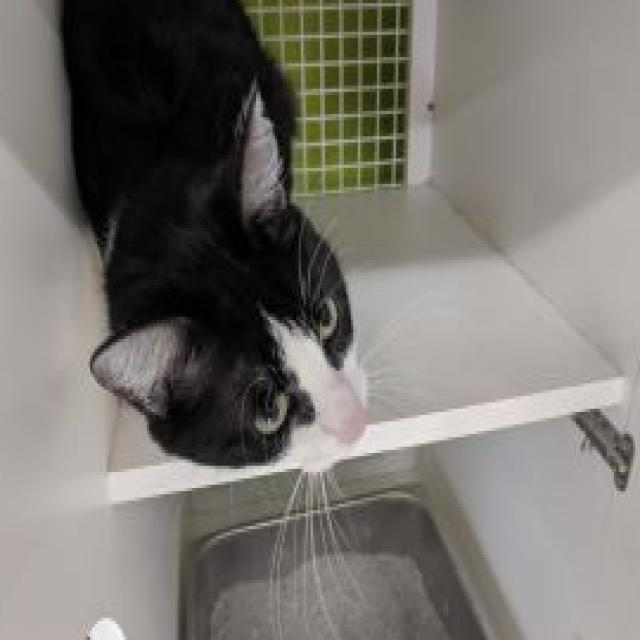Tuxedo: (52, 0, 375, 472)
